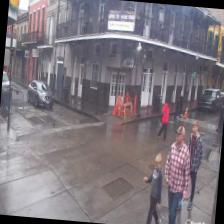person: (160, 125, 193, 224), (175, 119, 205, 212), (138, 152, 166, 224)
